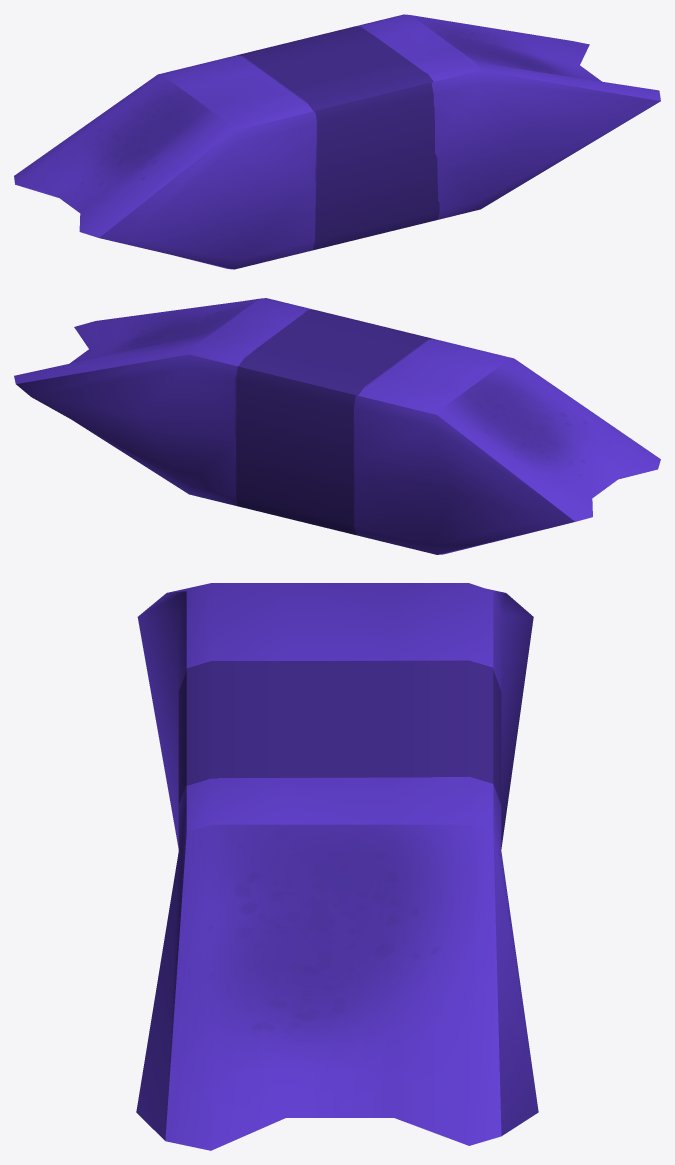
Rendered from barre de chocolat.fbx.
3 views of the same model, one above another, from view 1: azimuth 30°, elevation 25°; view 2: azimuth 150°, elevation 25°; view 3: azimuth 270°, elevation 25° (orthographic). The views are drawn at different scales.
Parts seen in each view (by area): view 1: barre de chocolat; view 2: barre de chocolat; view 3: barre de chocolat.
Boxes of the visible parts, x1,y1,x2,y2 form: barre de chocolat: (14,14,660,269); barre de chocolat: (14,298,660,554); barre de chocolat: (136,583,538,1150).
Size of the model in its own units: 11.13 by 2.68 by 3.35.
